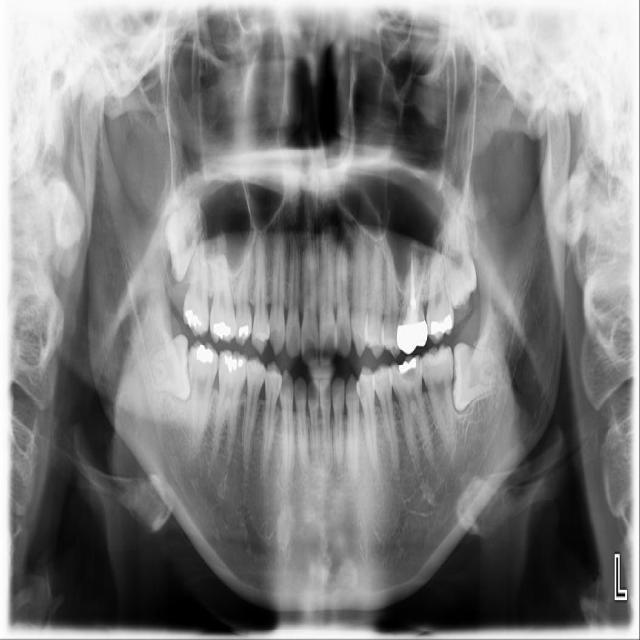3M ESPE Implant: (160, 197, 209, 284)
52: (385, 353, 429, 398), (178, 285, 213, 339), (396, 304, 429, 355), (425, 296, 454, 345), (218, 348, 249, 392), (209, 299, 237, 344), (234, 307, 253, 347)
73: (400, 242, 430, 311), (616, 556, 622, 576)
BioHorizons Implant: (425, 240, 456, 345)
BioLife Implant: (435, 206, 481, 312)
Biomet 3i Implant: (451, 341, 501, 413)
Blue Sky Bio Implant: (420, 344, 455, 444)
Caries: (181, 228, 213, 339)
Implant: (185, 340, 220, 450)
Keystone Dental Implant: (147, 333, 192, 401)
